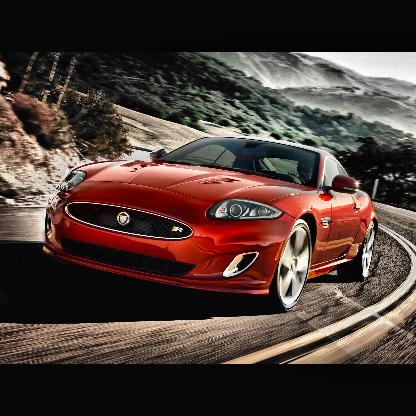Jaguar XK XKR 2012: (44, 136, 379, 312)
